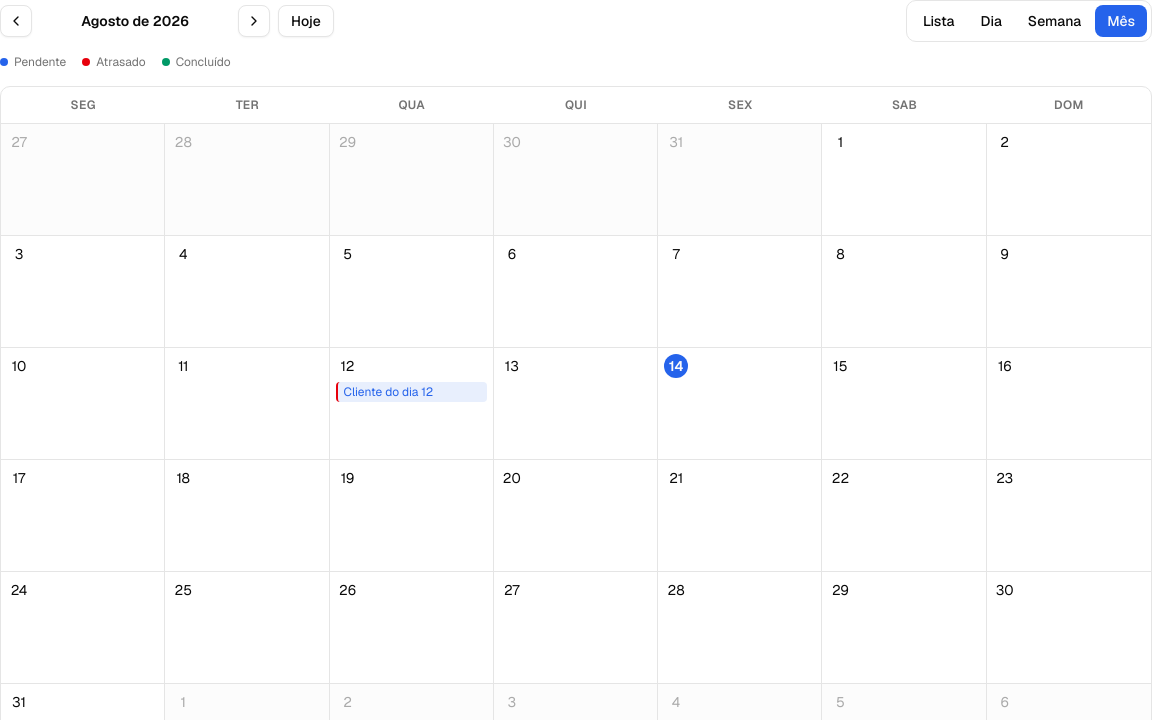
Scenario: Agenda2Calendario — diálogo do dia e ações do dono › dialogo-pelo-mes: dia sem itens mostra a mensagem de dia vazio
Expected: the text "Cliente do dia 12" is shown, 344,384 -> 433,400
Click the button named "13 de agosto".
click(576, 404)  # box 494,348 -> 658,460
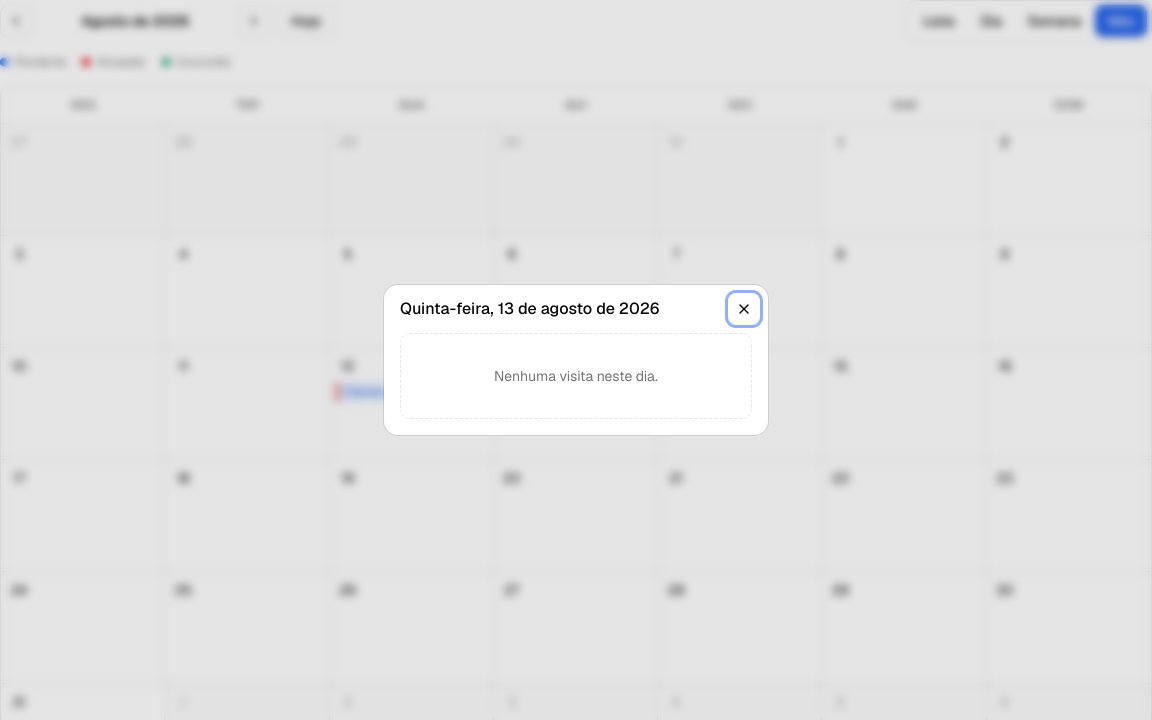
Expected: the text "Nenhuma visita neste dia." is shown, 400,333 -> 752,419
